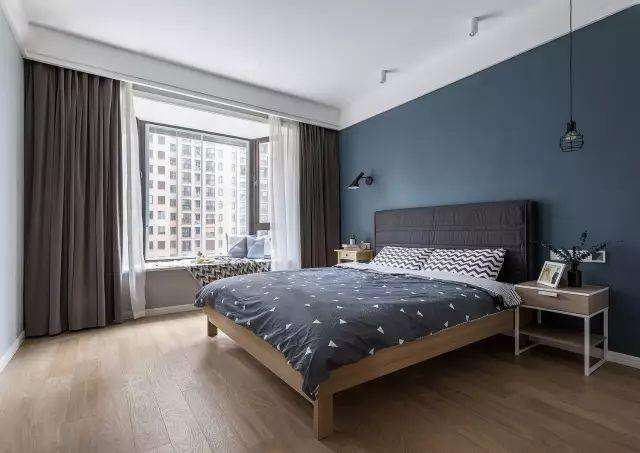床: (211, 263, 524, 427)
枕头: (366, 242, 512, 287), (227, 231, 270, 258)
灯: (553, 4, 587, 156), (343, 170, 373, 194), (468, 14, 483, 42), (375, 67, 390, 87)
